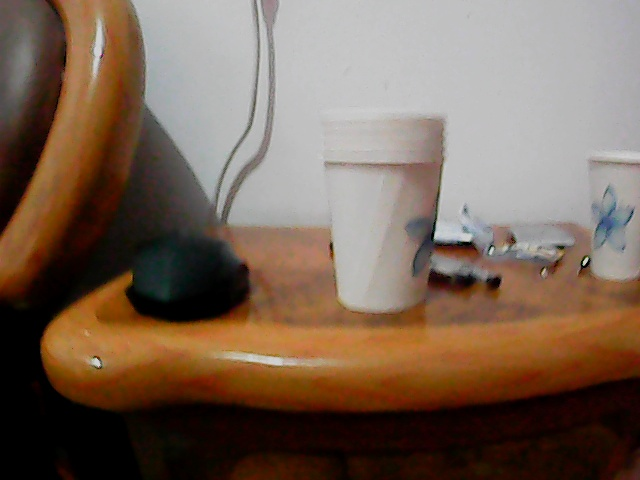cup: (318, 109, 449, 315)
mouse: (128, 230, 250, 324)
